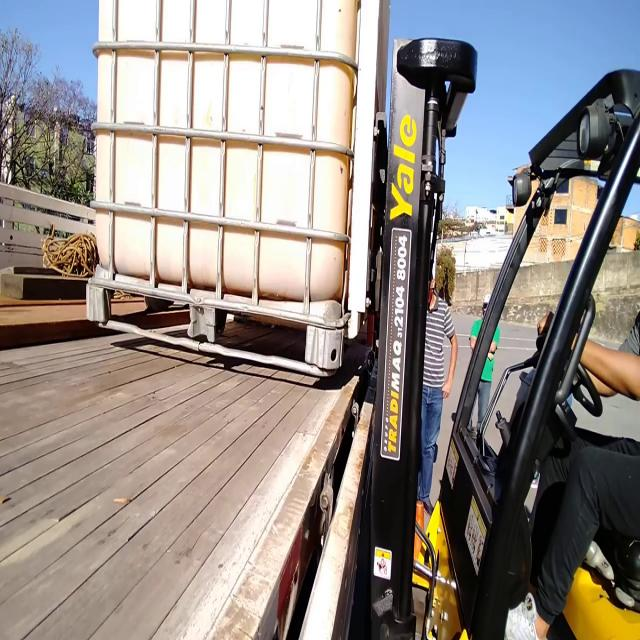Chariot elevateur: (373, 23, 640, 640)
